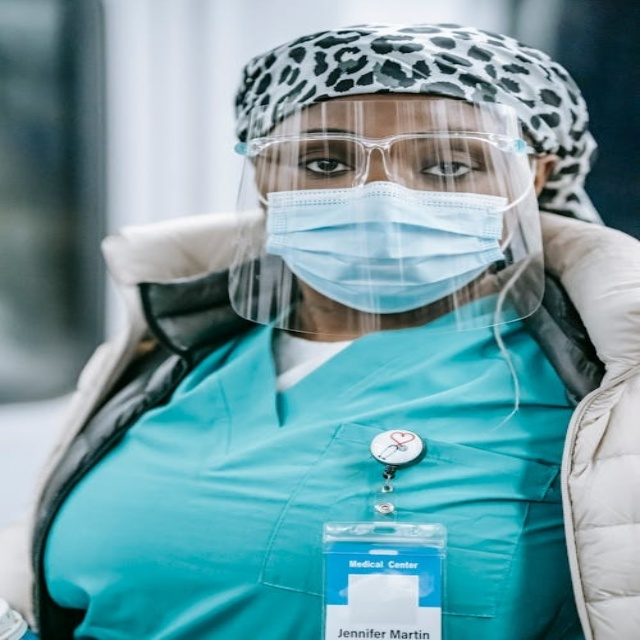Gafas: (236, 121, 537, 206)
Mascara: (258, 180, 521, 314)
Sin_gafas: (300, 156, 353, 176), (422, 160, 477, 178)
